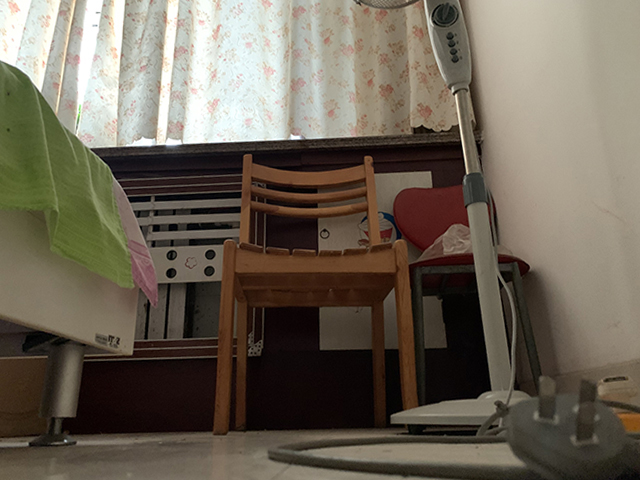cabinet: (114, 133, 471, 430)
sofa: (1, 59, 159, 449)
stool: (213, 154, 421, 437), (393, 183, 544, 406)
wire: (274, 376, 640, 480)
